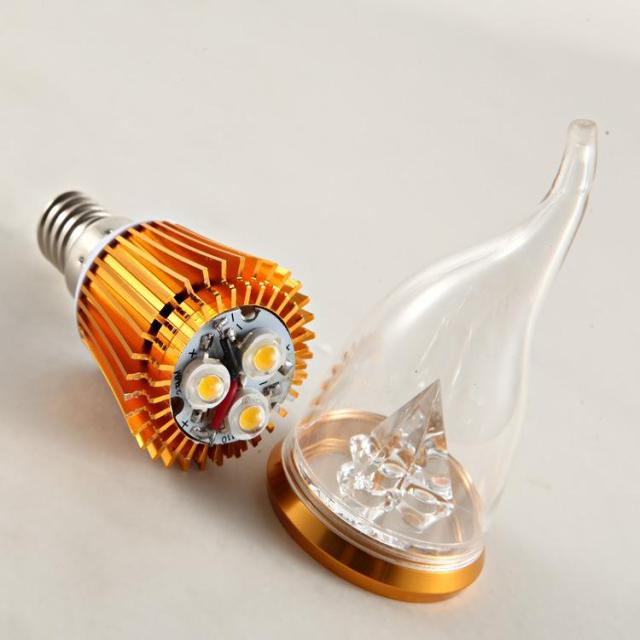non-organik: (36, 96, 616, 598)
